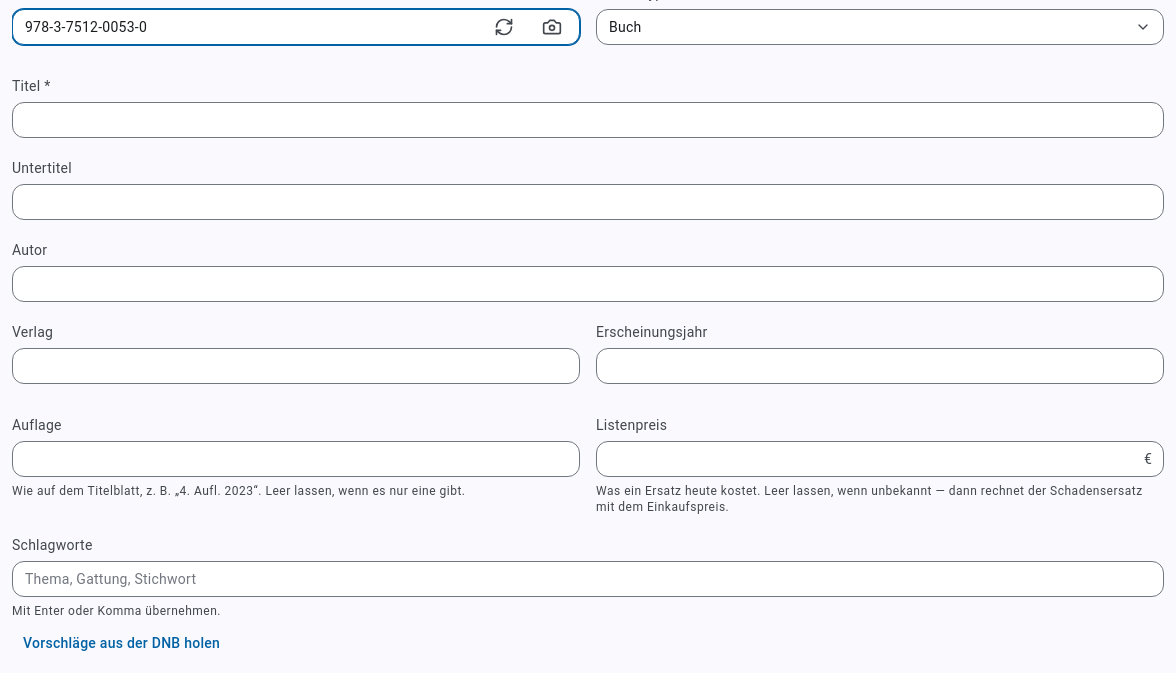
BuchEingabefelder: Schlagworte aus der DNB › bringt sie nach der ISBN-Abfrage eines neuen Titels von selbst
Click the button named "Daten aus dem Internet aktualisieren" at (504,27), box [488,11,520,43]
(page scrolled)
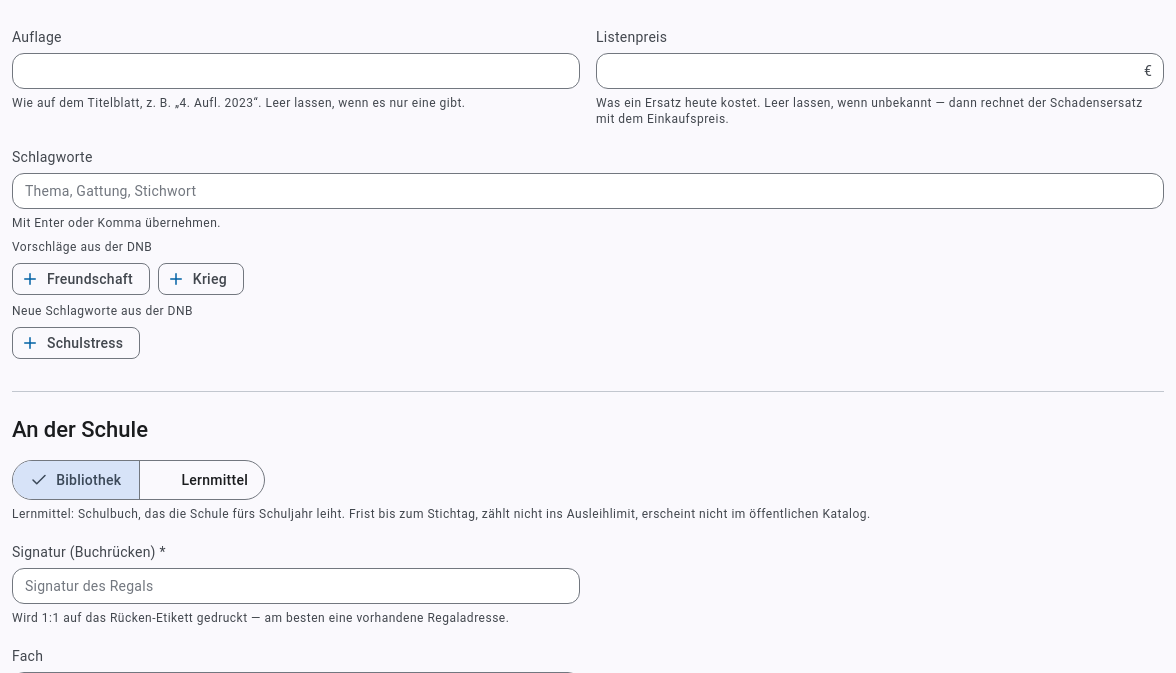
Expected: the element named "Vorschläge aus der DNB" shows "Freundschaft", [12,263,150,295]
Expected: the element named "Neue Schlagworte aus der DNB" reads "Schulstress", [12,327,140,359]
Expected: the button "Vorschläge aus der DNB holen" is gone
